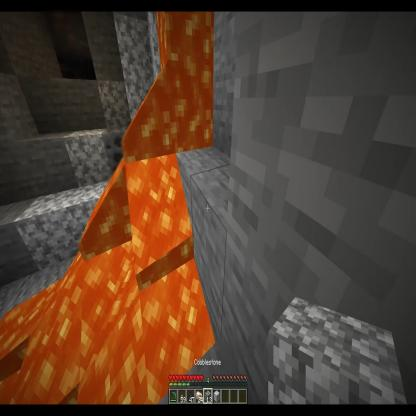coal ore: (102, 125, 132, 187)
iron ore: (46, 7, 80, 47)
